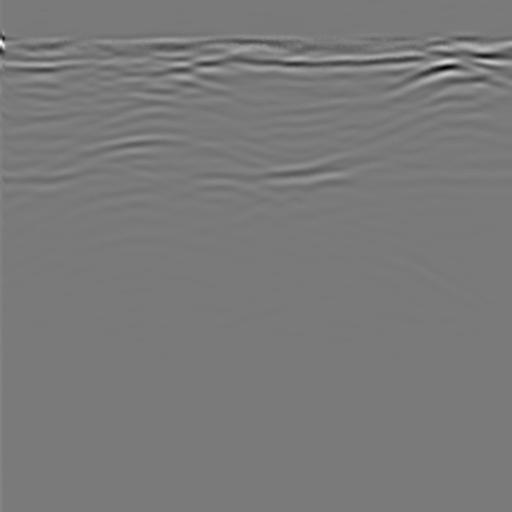hyperbola: (34, 120, 289, 224)
